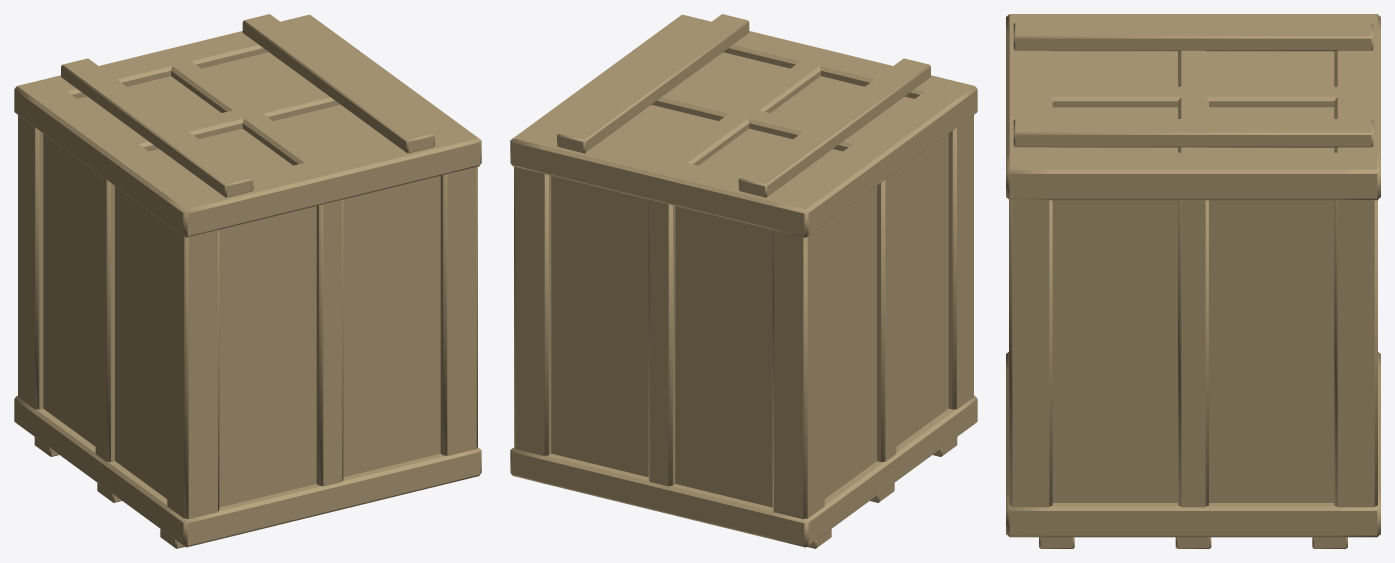
File: Crate.fbx
3 renders of one model, left to right at view 1: azimuth 30°, elevation 25°; view 2: azimuth 150°, elevation 25°; view 3: azimuth 270°, elevation 25°, orthographic. The views are drawn at different scales.
Visible parts, largest first — view 1: Crate; view 2: Crate; view 3: Crate.
Part boxes in pixels (left/top/right/bottom): Crate: left=14, top=14, right=481, bottom=548; Crate: left=510, top=14, right=977, bottom=548; Crate: left=1006, top=14, right=1380, bottom=548.
Size of the model in its own units: 217 by 253 by 217.
